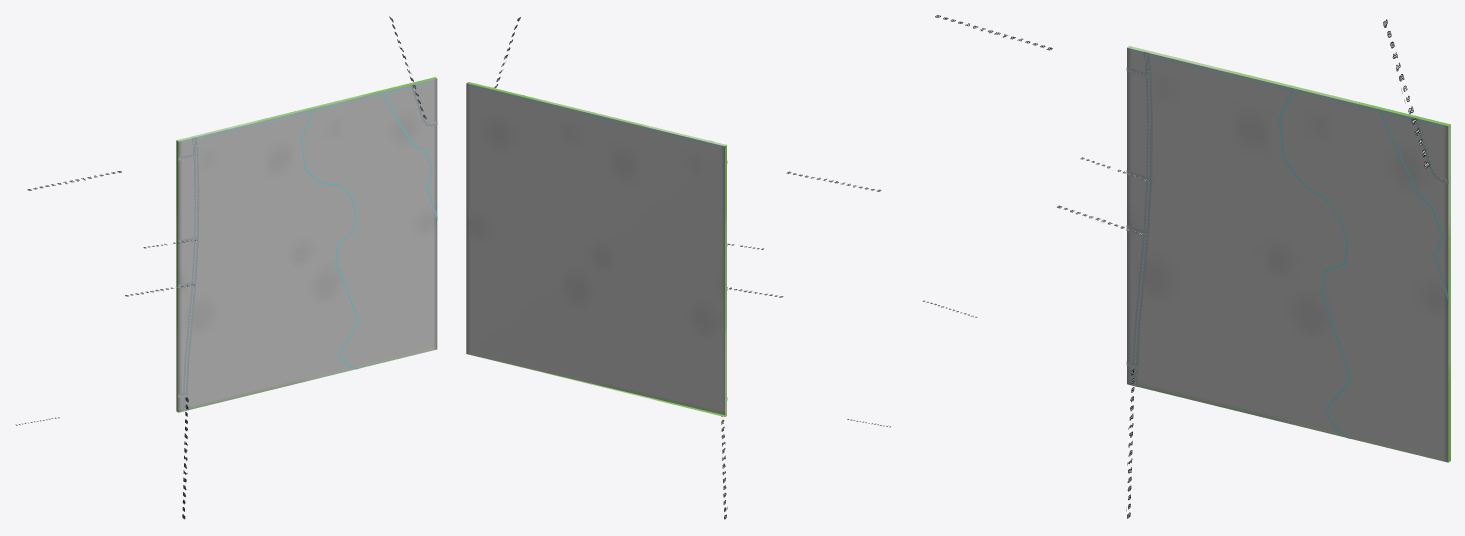
The picture shows the model from 3 angles, left to right: view 1: azimuth 30°, elevation 25°; view 2: azimuth 150°, elevation 25°; view 3: azimuth 330°, elevation 25°; orthographic projection. The views are drawn at different scales.
Visible parts, largest first — view 1: POLYGON, POLYLINE, FONT; view 2: POLYGON, FONT; view 3: POLYGON, POLYLINE, FONT.
Boxes of the visible parts, x1,y1,x2,y2 form: POLYGON: [176, 77, 437, 412]; POLYLINE: [178, 84, 437, 411]; FONT: [15, 16, 426, 519]; POLYGON: [466, 82, 726, 416]; FONT: [494, 17, 890, 519]; POLYGON: [1127, 46, 1450, 462]; POLYLINE: [1126, 51, 1448, 438]; FONT: [923, 15, 1429, 518].
Size of the model in its own units: 998 by 1025 by 27.24.
